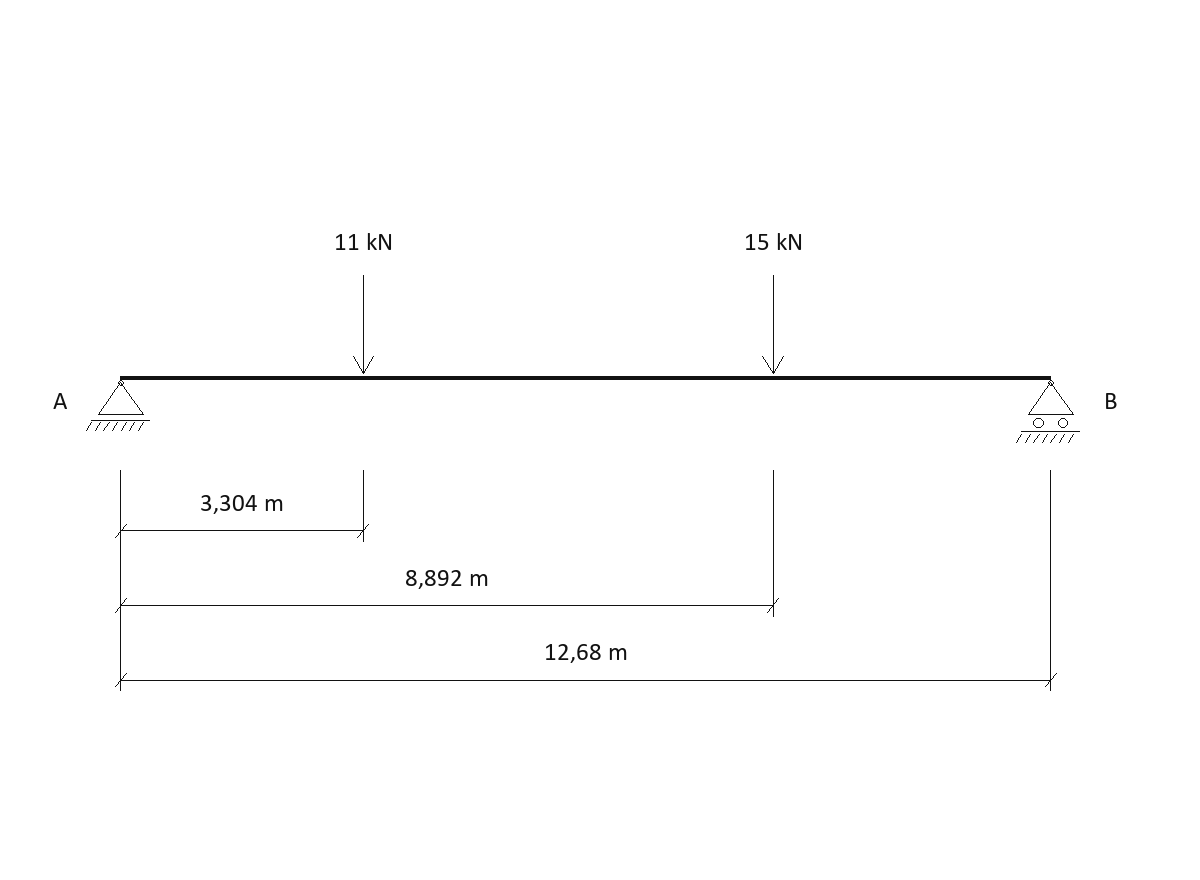pin_support: (86, 380, 150, 431)
point_load: (762, 275, 784, 374), (353, 275, 374, 374)
roller_support: (1016, 380, 1080, 443)
